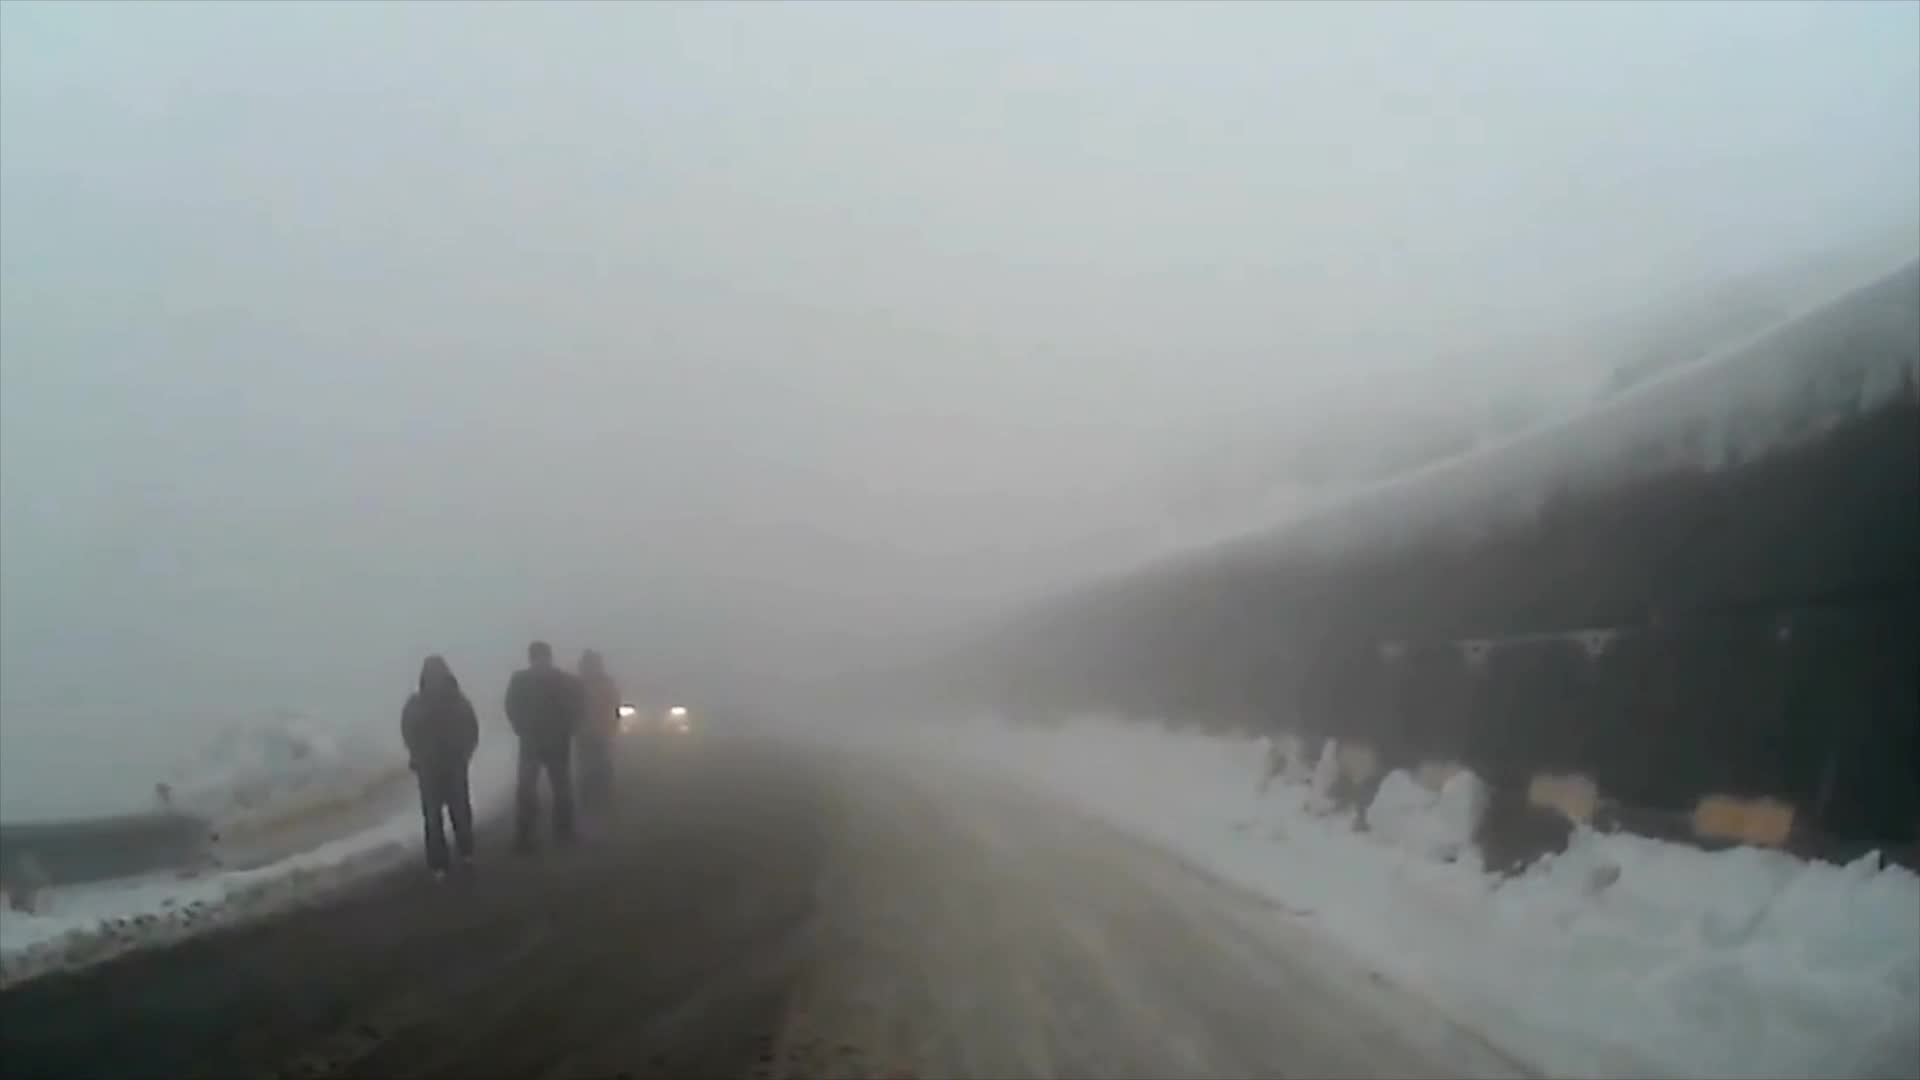pedestrian: (402, 654, 487, 888), (502, 644, 582, 857), (567, 655, 627, 823)
vehicle: (609, 677, 695, 753)
